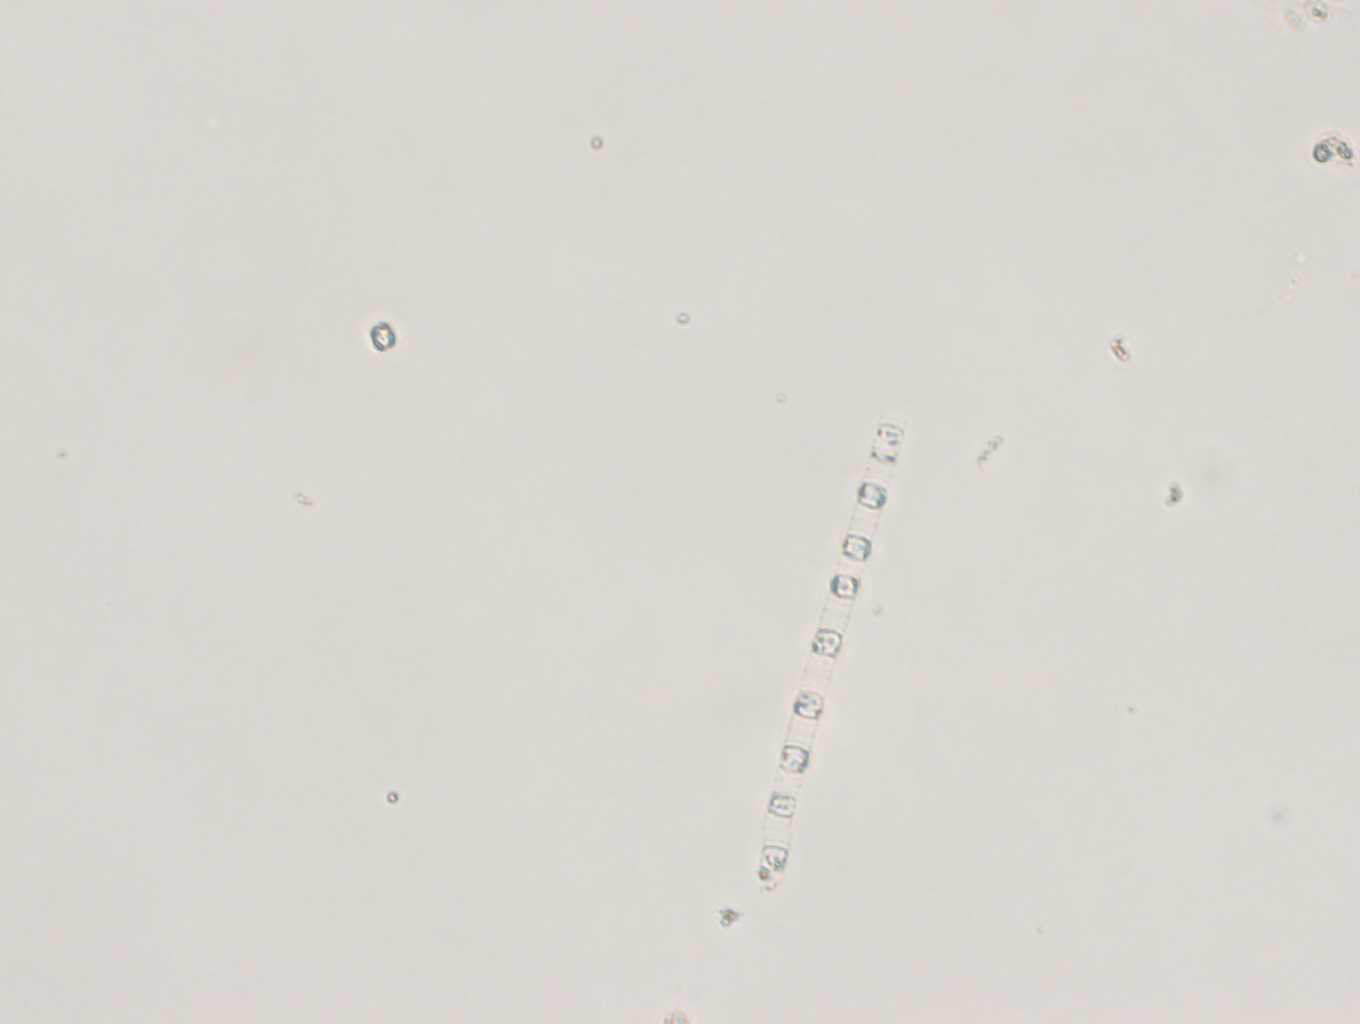skeletonema: (733, 411, 920, 913)
